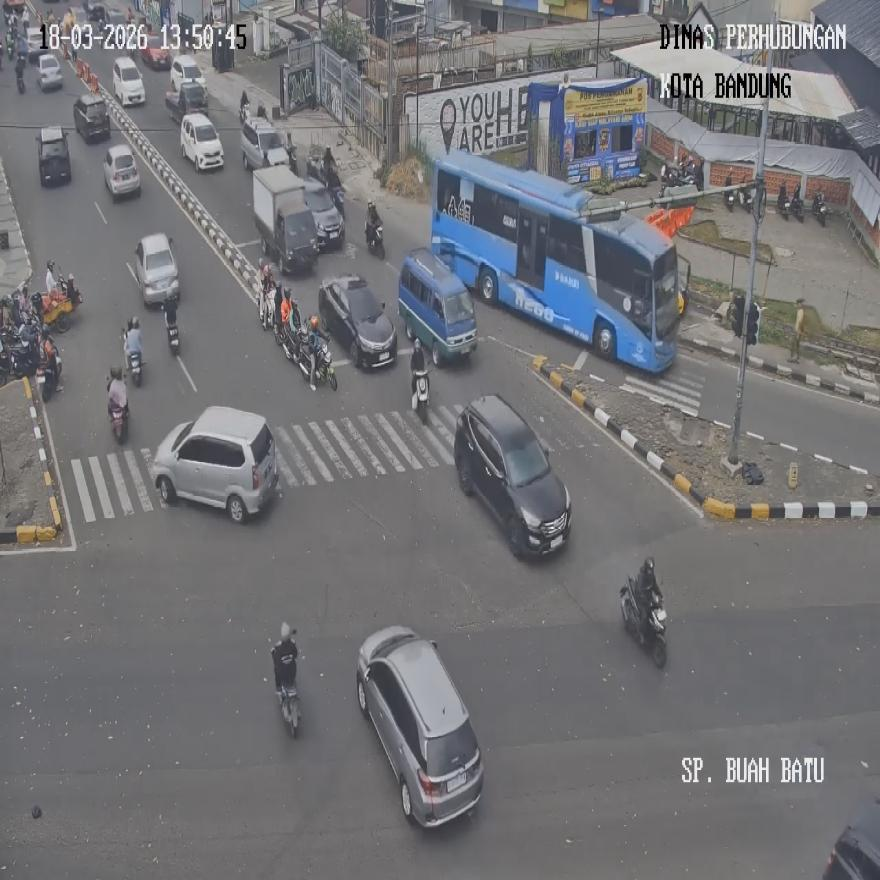Motor: (356, 625, 483, 826), (453, 393, 572, 557), (151, 406, 279, 523), (397, 246, 478, 363), (319, 272, 397, 370), (252, 162, 319, 272), (136, 232, 180, 306), (181, 112, 224, 172), (36, 123, 72, 186), (111, 56, 145, 105)
Truk: (619, 574, 667, 668), (271, 625, 300, 738), (310, 331, 338, 391), (106, 375, 128, 444), (122, 325, 142, 386), (41, 348, 61, 402), (410, 367, 428, 424), (259, 281, 277, 331), (164, 308, 180, 357), (365, 219, 384, 259), (659, 162, 680, 194), (789, 187, 806, 222), (724, 172, 737, 212), (740, 182, 756, 213), (812, 191, 826, 226), (776, 183, 789, 220), (15, 58, 26, 92), (238, 92, 249, 124)
